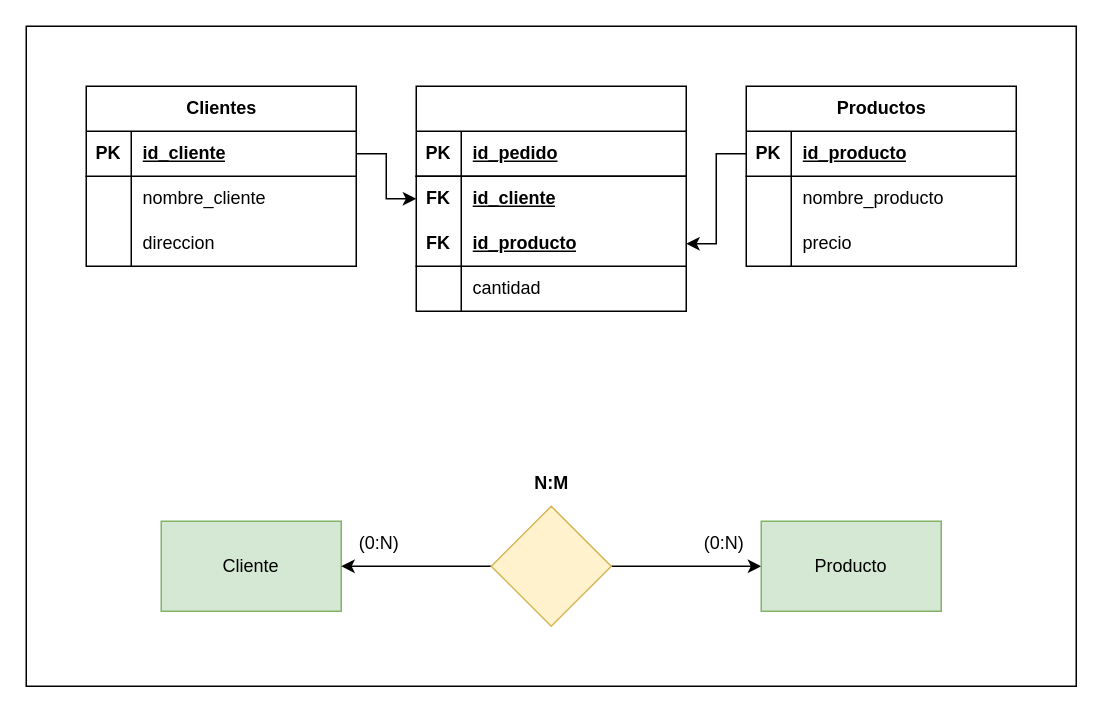
Some shapes in this 1103 by 713 pixel diagram are drawn without their labels. Here are the shapes that lost their labels. From the top down, the box of each, then its label:
(415, 85, 686, 311): Pedidos
(490, 505, 611, 626): comprar
